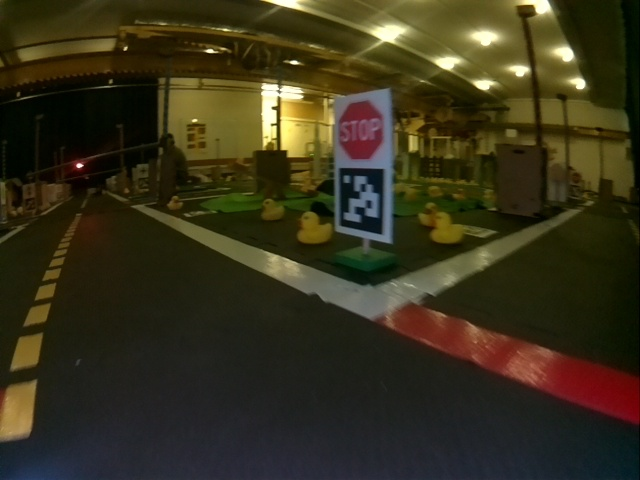Duckie: (297, 212, 331, 243), (432, 213, 461, 243), (261, 199, 284, 219), (418, 203, 438, 226), (167, 196, 183, 210)
QR code: (335, 168, 386, 235)
Stop sign: (336, 97, 390, 162)
